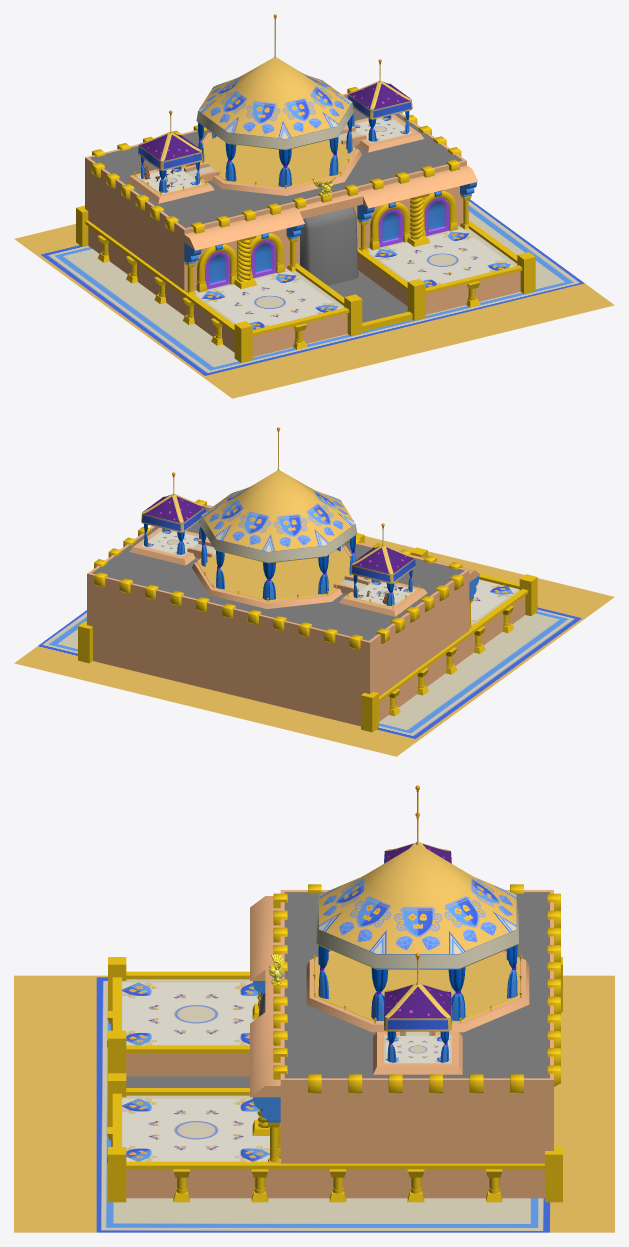
File: CastleZone4.fbx
3 views of the same model, one above another, from view 1: azimuth 30°, elevation 25°; view 2: azimuth 150°, elevation 25°; view 3: azimuth 270°, elevation 25° (orthographic). The views are drawn at different scales.
Parts seen in each view (by area): view 1: BaseBuilding, GroundBase, GroundFront, WaterPlane, Waterfall, water_bottom; view 2: BaseBuilding, GroundBase, WaterPlane, GroundFront; view 3: BaseBuilding, GroundBase, GroundFront, WaterPlane, water_bottom.
Part boxes in pixels (left/top/right/bottom): BaseBuilding: left=76, top=14, right=535, bottom=362; GroundBase: left=14, top=199, right=584, bottom=376; GroundFront: left=202, top=283, right=614, bottom=398; WaterPlane: left=90, top=95, right=461, bottom=228; Waterfall: left=300, top=207, right=358, bottom=285; water_bottom: left=328, top=270, right=407, bottom=322; BaseBuilding: left=78, top=427, right=537, bottom=732; GroundBase: left=14, top=607, right=584, bottom=756; WaterPlane: left=92, top=507, right=464, bottom=640; GroundFront: left=364, top=536, right=614, bottom=618; BaseBuilding: left=107, top=785, right=562, bottom=1202; GroundBase: left=96, top=975, right=614, bottom=1232; GroundFront: left=14, top=975, right=96, bottom=1232; WaterPlane: left=284, top=892, right=549, bottom=1078; water_bottom: left=126, top=1076, right=249, bottom=1087.
Size of the model in its own units: 9234 by 5419 by 9127.
